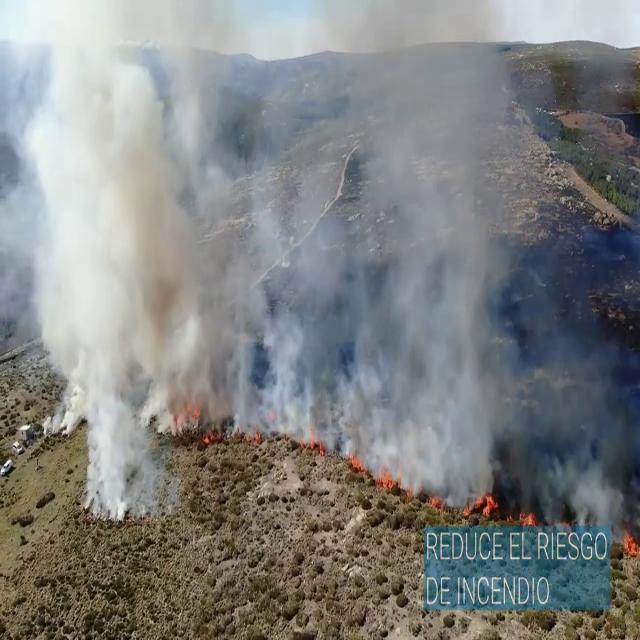Fire: (619, 524, 640, 562)
Smoke: (1, 1, 639, 514)
